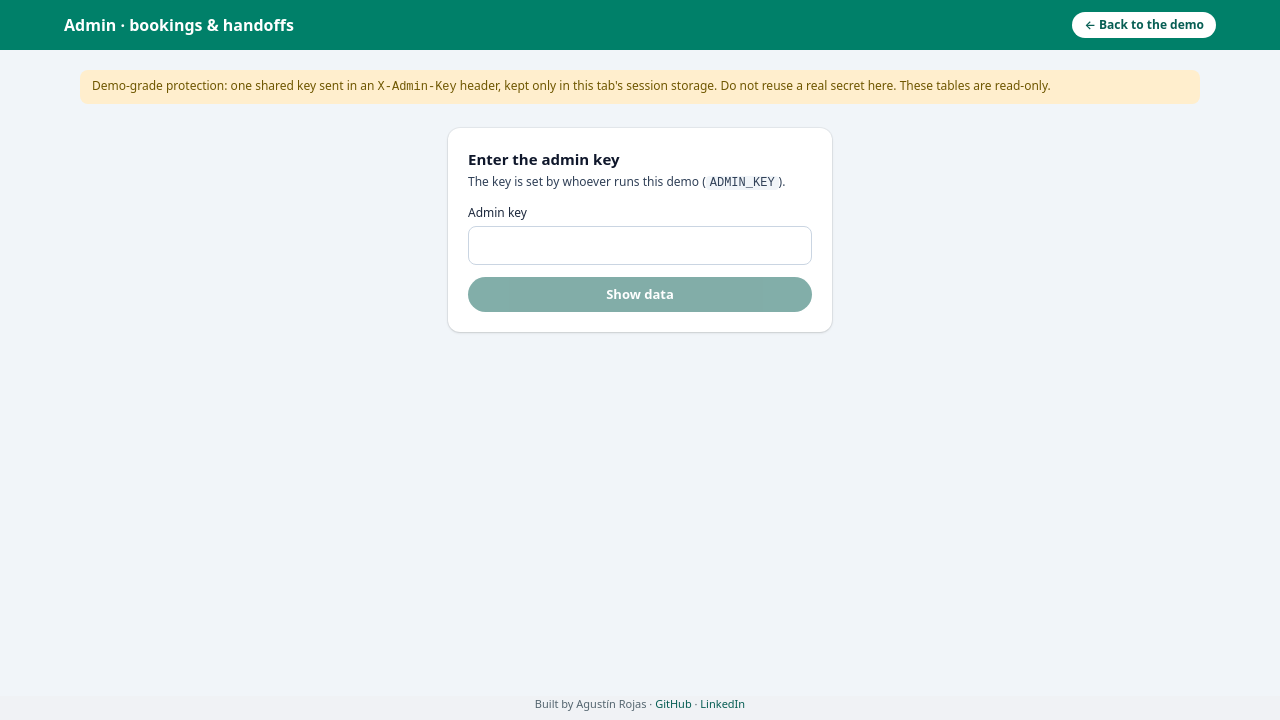
Test case: AdminPage › sends the key in X-Admin-Key, stores it in sessionStorage only and lists newest-first rows with trace links
Step 1. Type "secret" into the password field labelled "Admin key" → (640, 245), box [468,226,812,264]
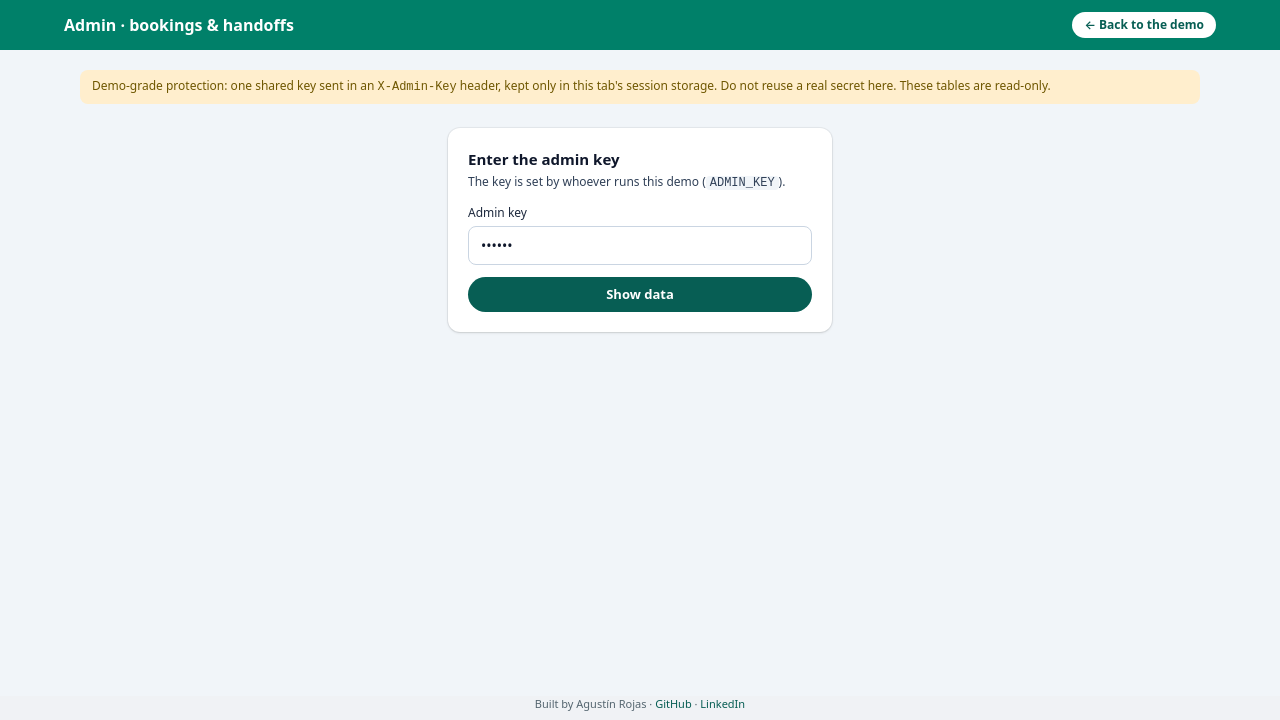
Step 2. Click the button "Show data" → (640, 294), box [468,276,812,312]
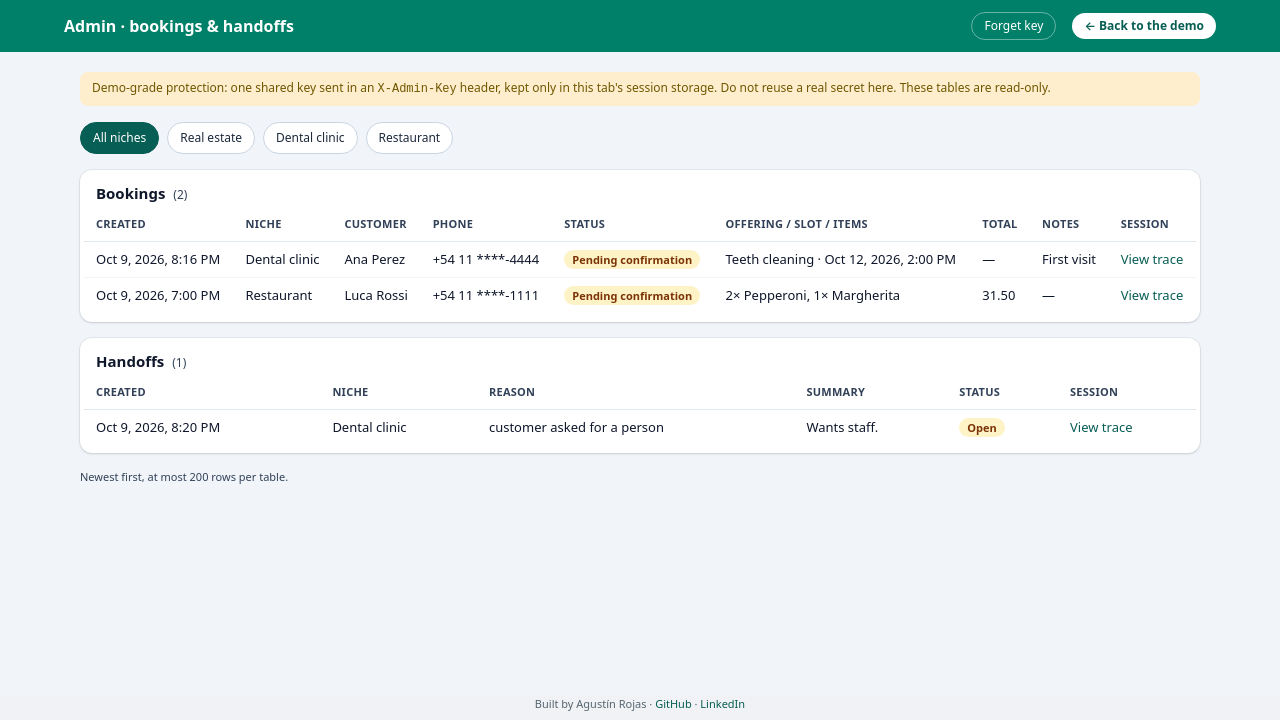
expect the text "Ana Perez" is shown: met, box [332,241,421,278]
expect the number of rows with test id "booking-row" is 2: met, box [84,241,1196,278]; [84,278,1196,314]
expect the text "+54 11 ****-4444" is shown: met, box [421,241,552,278]
